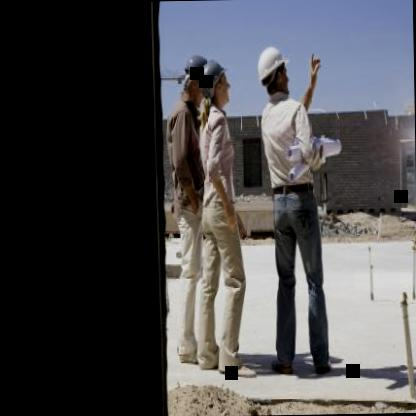helmet: (256, 42, 289, 100), (198, 60, 232, 110), (180, 52, 209, 104)
